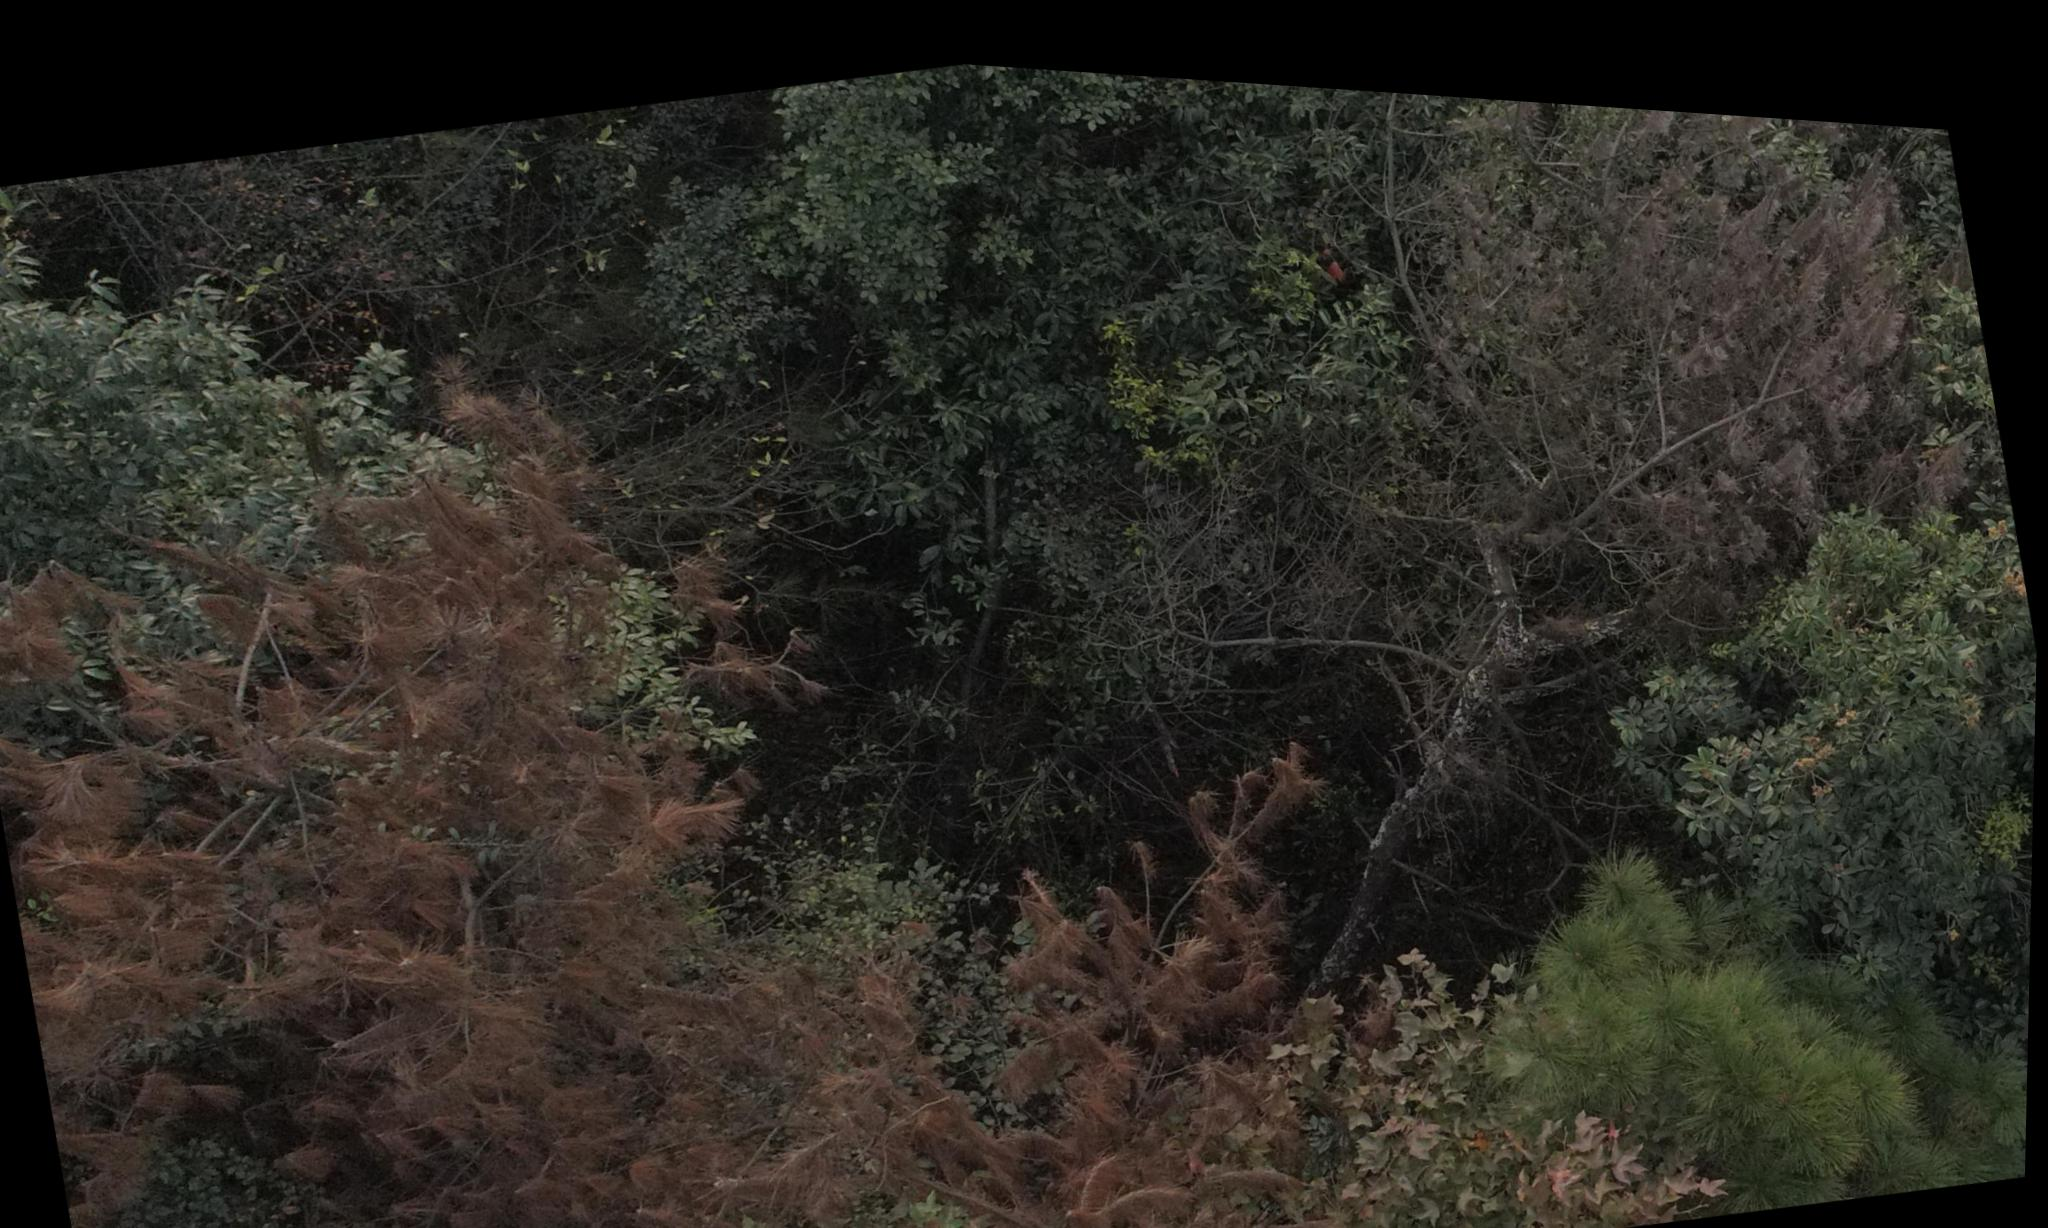heavy: (0, 314, 880, 1228), (835, 715, 1433, 1228)
